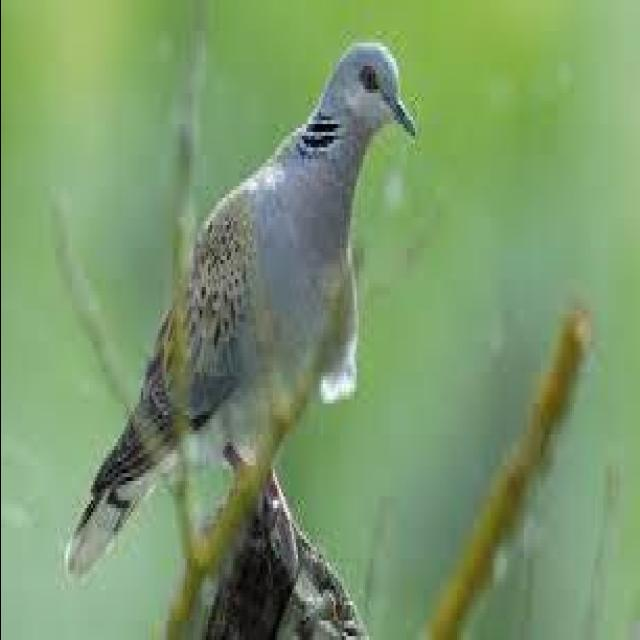pigeon: (56, 35, 439, 584)
